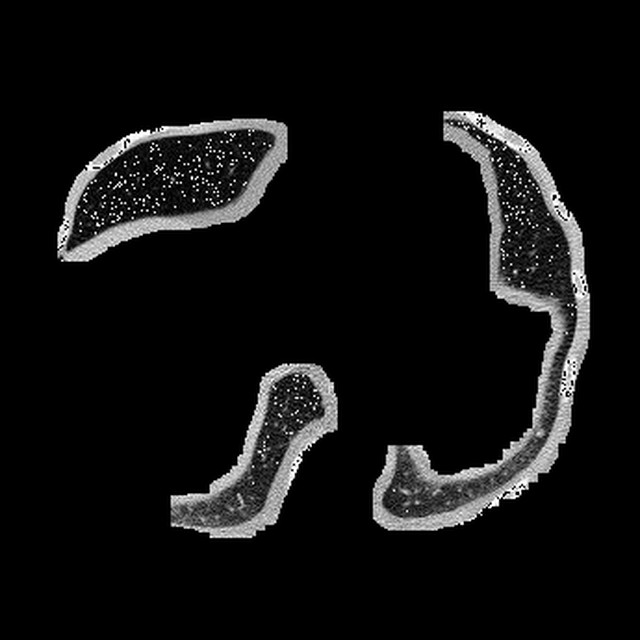PN: (536, 429, 544, 436)
